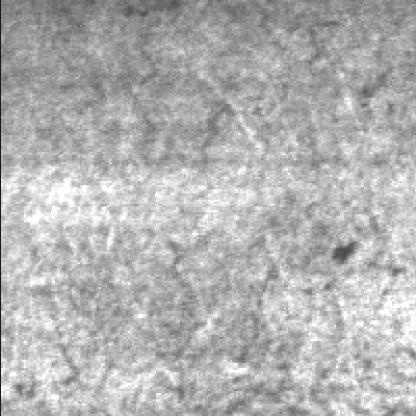crazing: (27, 242, 210, 398), (121, 6, 233, 185)
